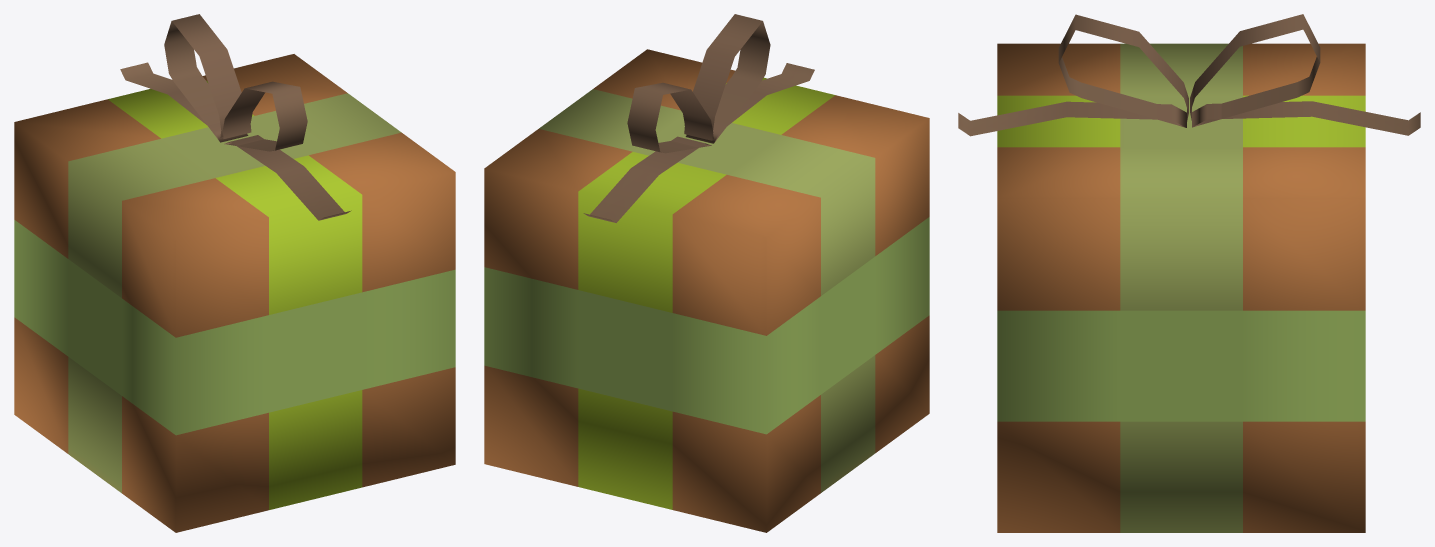
Rendered from gift.fbx.
3 views of the same model, side by side, from view 1: azimuth 30°, elevation 25°; view 2: azimuth 150°, elevation 25°; view 3: azimuth 270°, elevation 25° (orthographic). The views are drawn at different scales.
Visible parts, largest first — view 1: gift; view 2: gift; view 3: gift.
Boxes of the visible parts, box(x1,y1,x2,y2) form: gift: box(14, 14, 455, 532); gift: box(484, 14, 929, 532); gift: box(958, 14, 1420, 532).
Bounding box in the file's own units: 200 × 261 × 251.
Materials: 1 (1 with a texture image).
